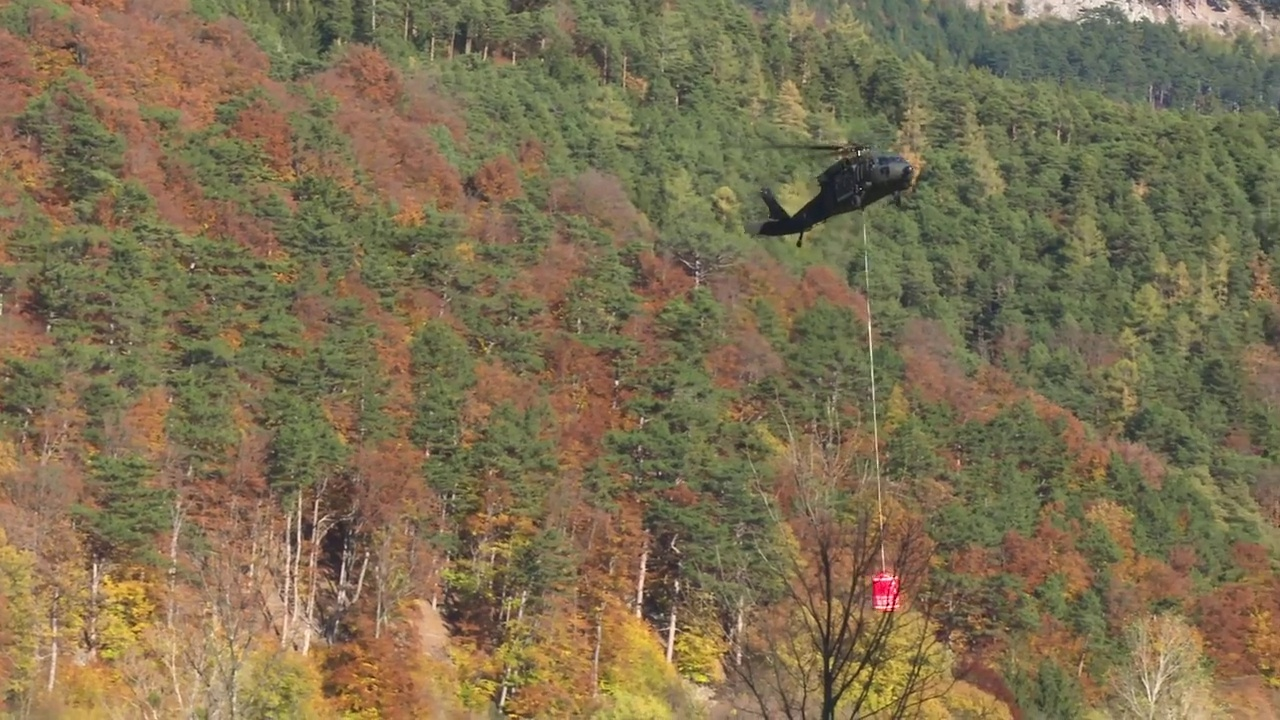heli: (755, 139, 913, 247)
